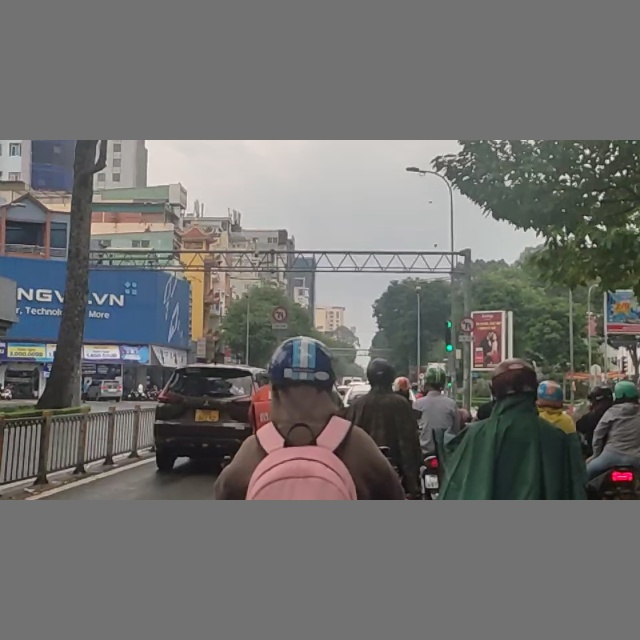P.124c: (459, 317, 476, 335), (272, 305, 289, 323)
